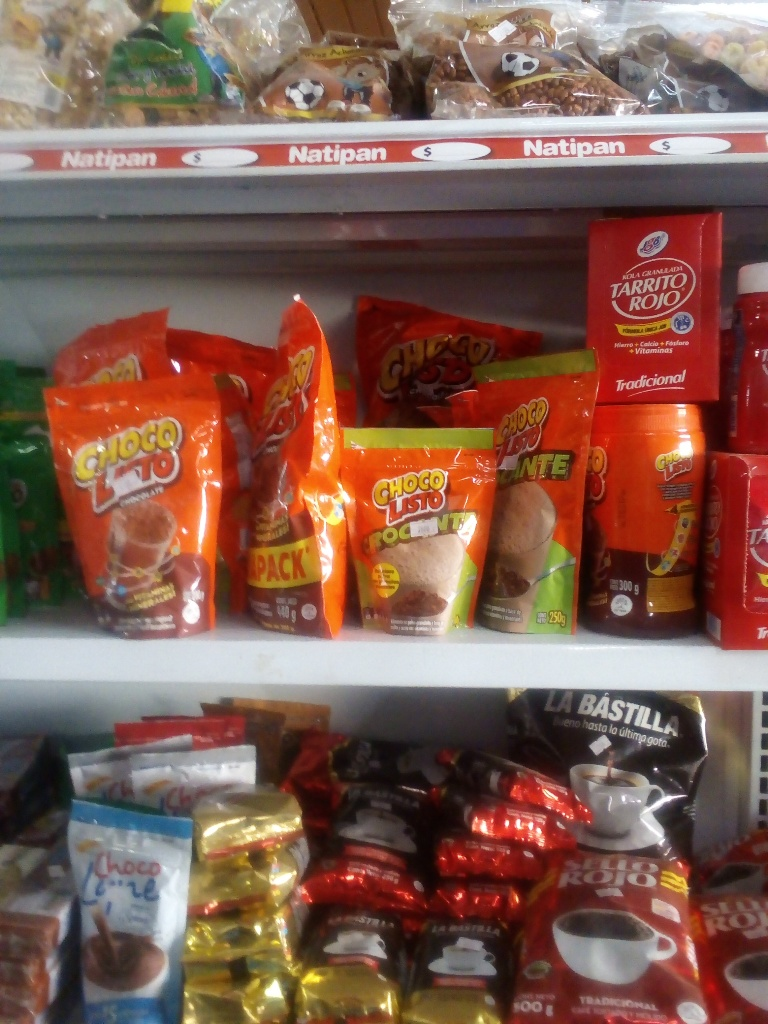COL0170102DYP10000: (336, 419, 501, 644)
COL0170102DYP25000: (455, 344, 594, 641)
COL0170103DYP20000: (41, 381, 228, 640)
COL0170103DYP40000: (229, 290, 350, 639)
COL0170103TRR30000: (589, 401, 706, 640)
